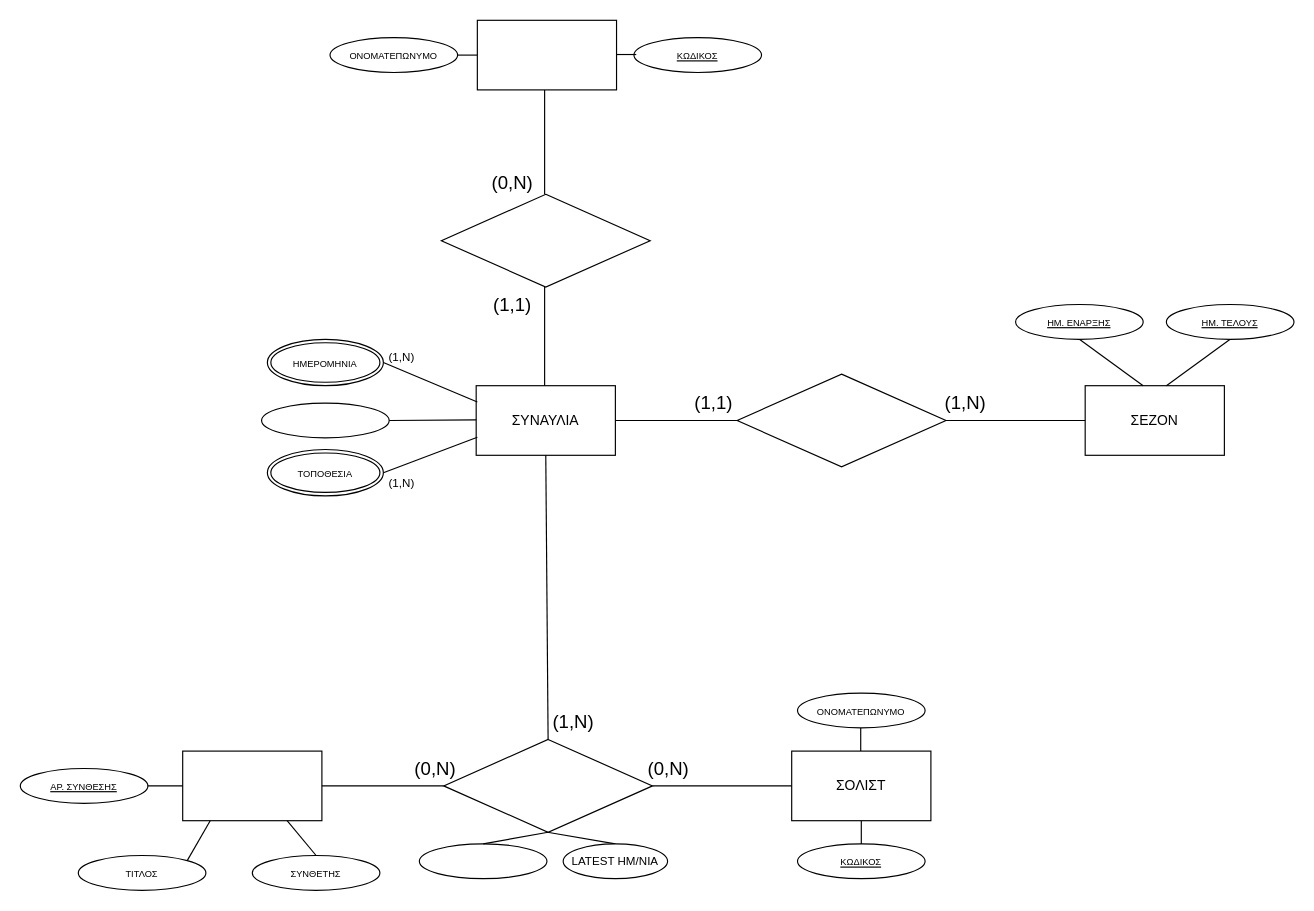
The diagram is 1314 pixels wide and 911 high, and some of its shapes have lost their labels. Each missing label, with the centre of its shape:
"ΑΡ. ΣΥΝΑΥΛΙΑΣ" goes at point (324, 420).
"Διευθύνει" goes at point (545, 240).
"Εκτελεί" goes at point (547, 785).
"ΜΑΕΣΤΡΟΣ" goes at point (546, 54).
"Προγραμματίζεται" goes at point (841, 420).
"ΣΥΝΘΕΣΗ" goes at point (252, 785).
"ΩΡΑ" goes at point (482, 861).
